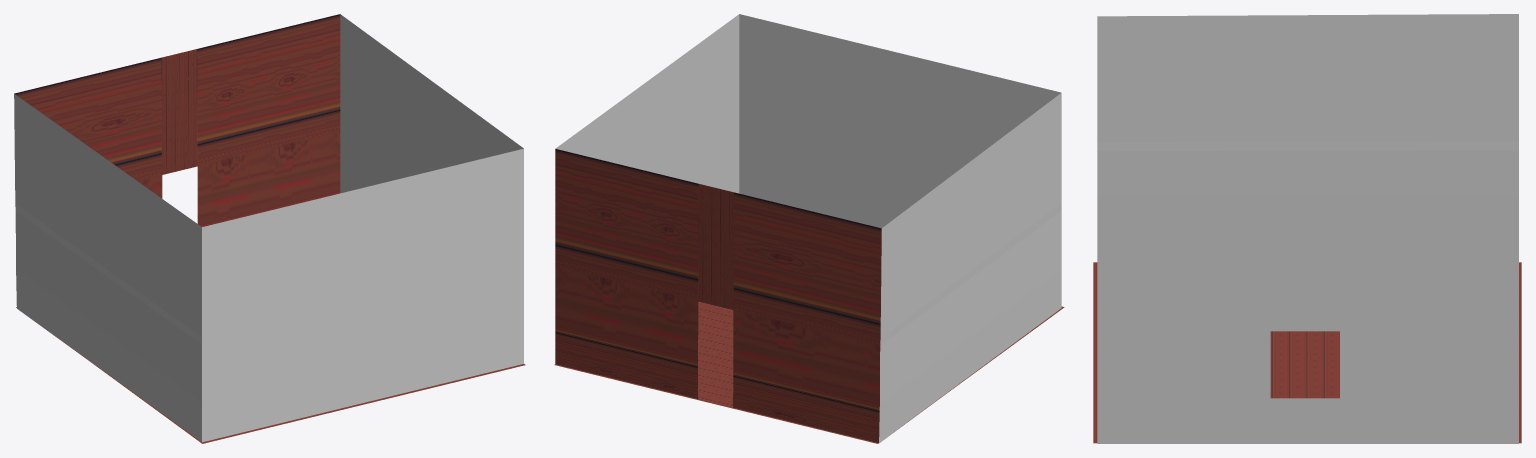
The model's file is room.fbx.
The picture shows the model from 3 angles, left to right: view 1: azimuth 30°, elevation 25°; view 2: azimuth 150°, elevation 25°; view 3: azimuth 270°, elevation 25°; orthographic projection. The views are drawn at different scales.
Parts seen in each view (by area): view 1: Cube.002, Cube; view 2: Cube.002, Cube; view 3: Cube.002, Cube.
Boxes of the visible parts, <box> form: Cube.002: <box>14,14,523,442</box>; Cube: <box>16,307,525,443</box>; Cube.002: <box>555,14,1061,443</box>; Cube: <box>554,301,1064,443</box>; Cube.002: <box>1097,14,1518,443</box>; Cube: <box>1093,262,1521,443</box>.
Bounding box in the file's own units: 3526 × 2229 × 3496.
